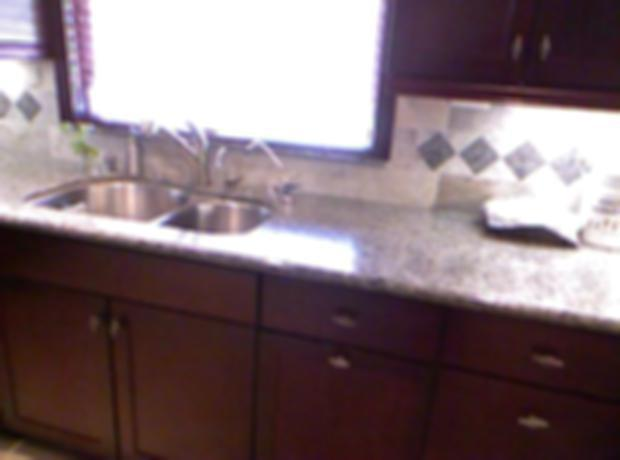Lavaplatos: (15, 112, 286, 248)
